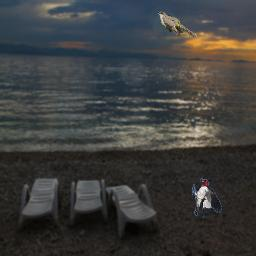Cuckoo: (157, 11, 197, 37)
Woodpecker: (192, 178, 222, 218)
